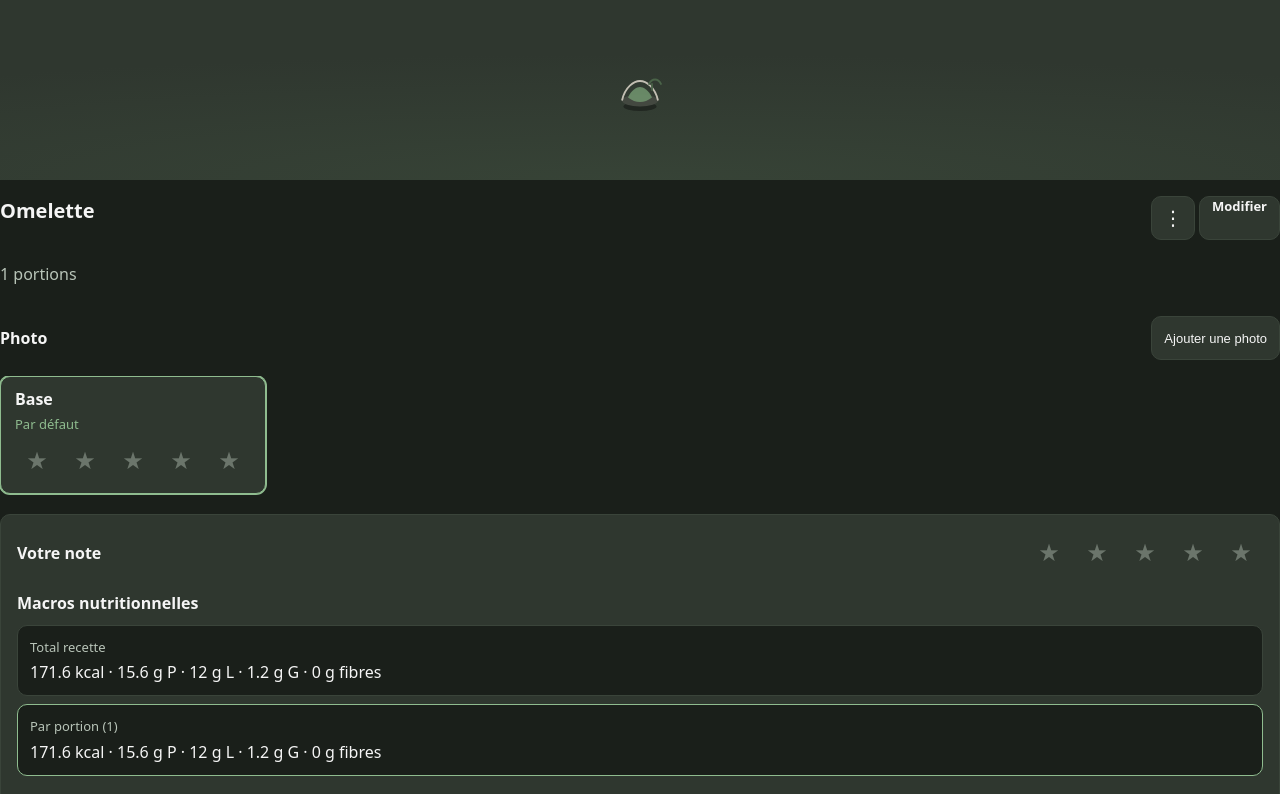
RecipeDetailPageComponent shortcuts › adds default-variant ingredients to the manual list from the fiche
Click the button "⋮". click: click(1173, 218)
box: [1151,196,1195,240]
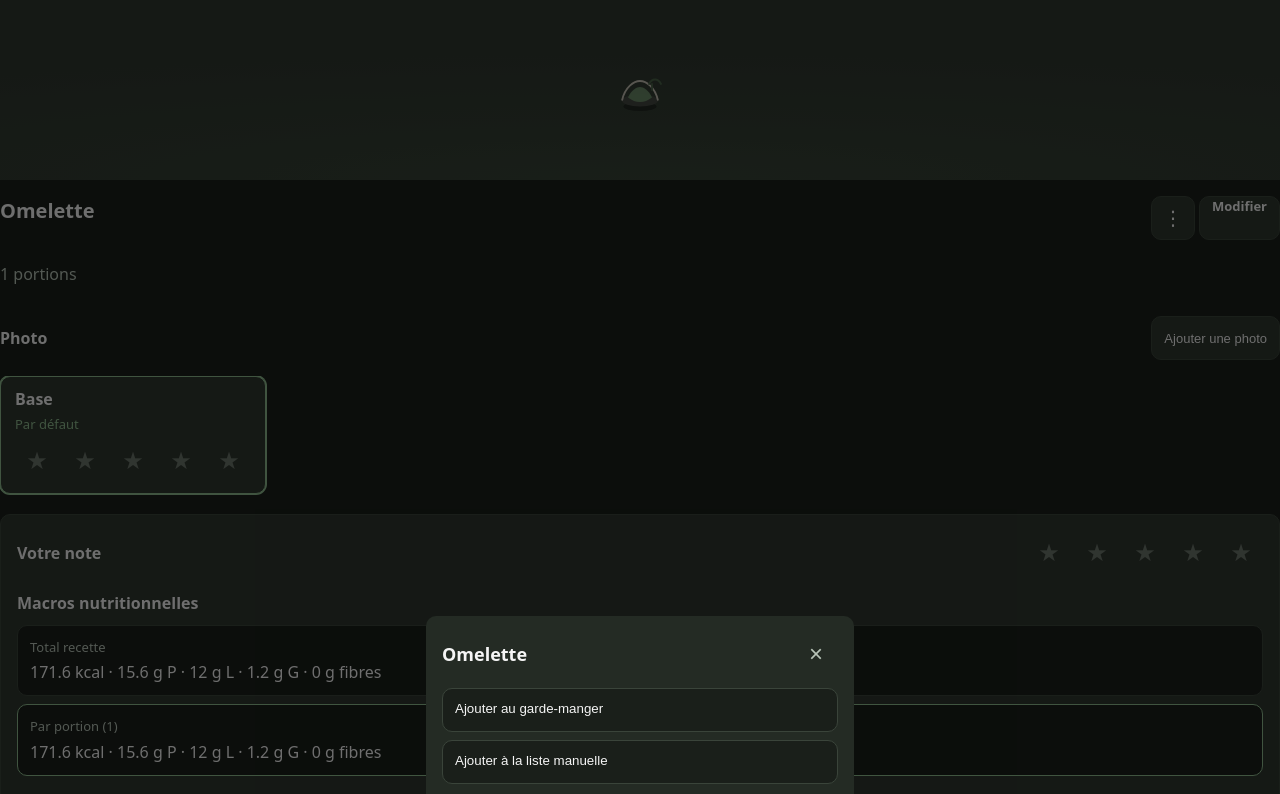
Click the button with class "sheet__list-button" showing "Ajouter à la liste manuelle". click: click(531, 760)
box: [442,740,838,784]
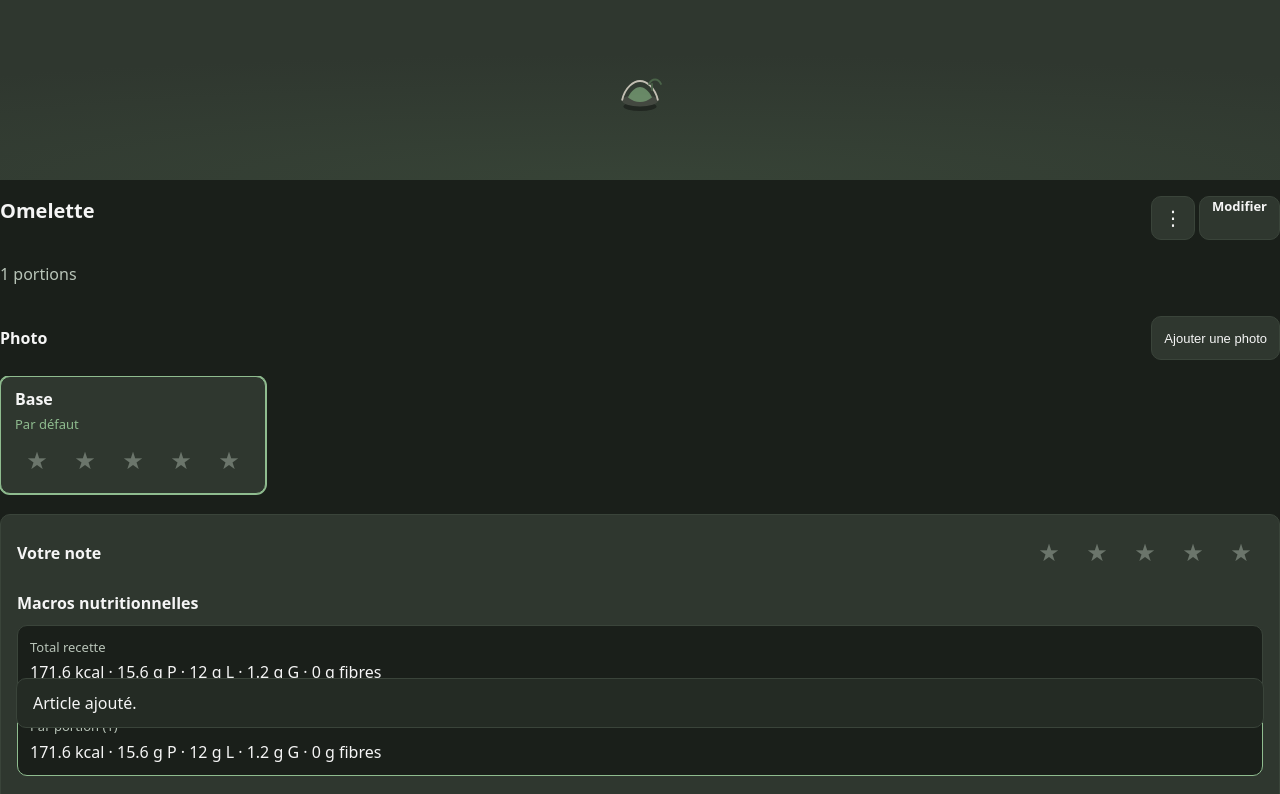
Now the text "Article ajouté." is shown, box [16,678,1264,728]
